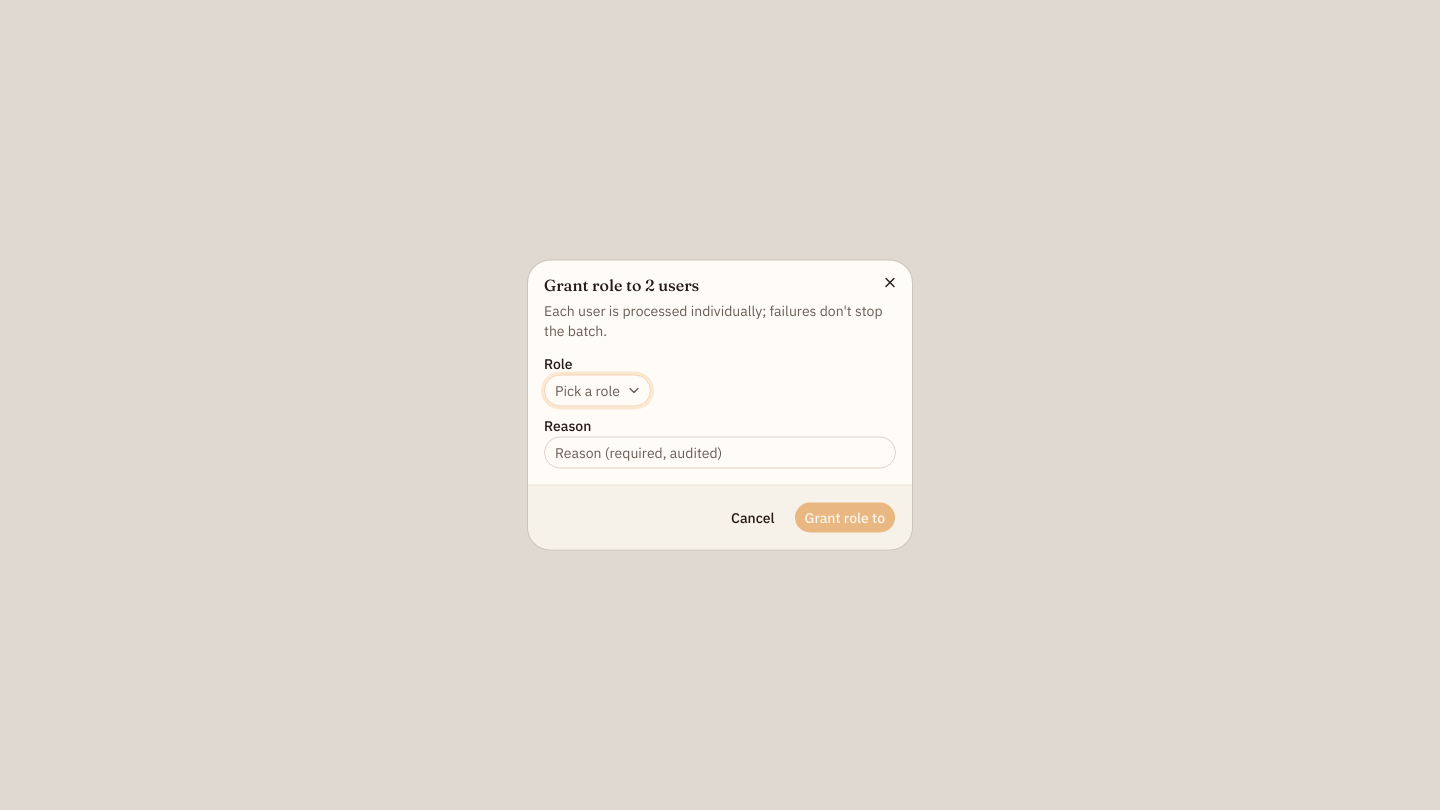
Test: BulkRoleDialog › excludes superadmin from picker
Click the dropdown: (597,390) [544,374,651,406]
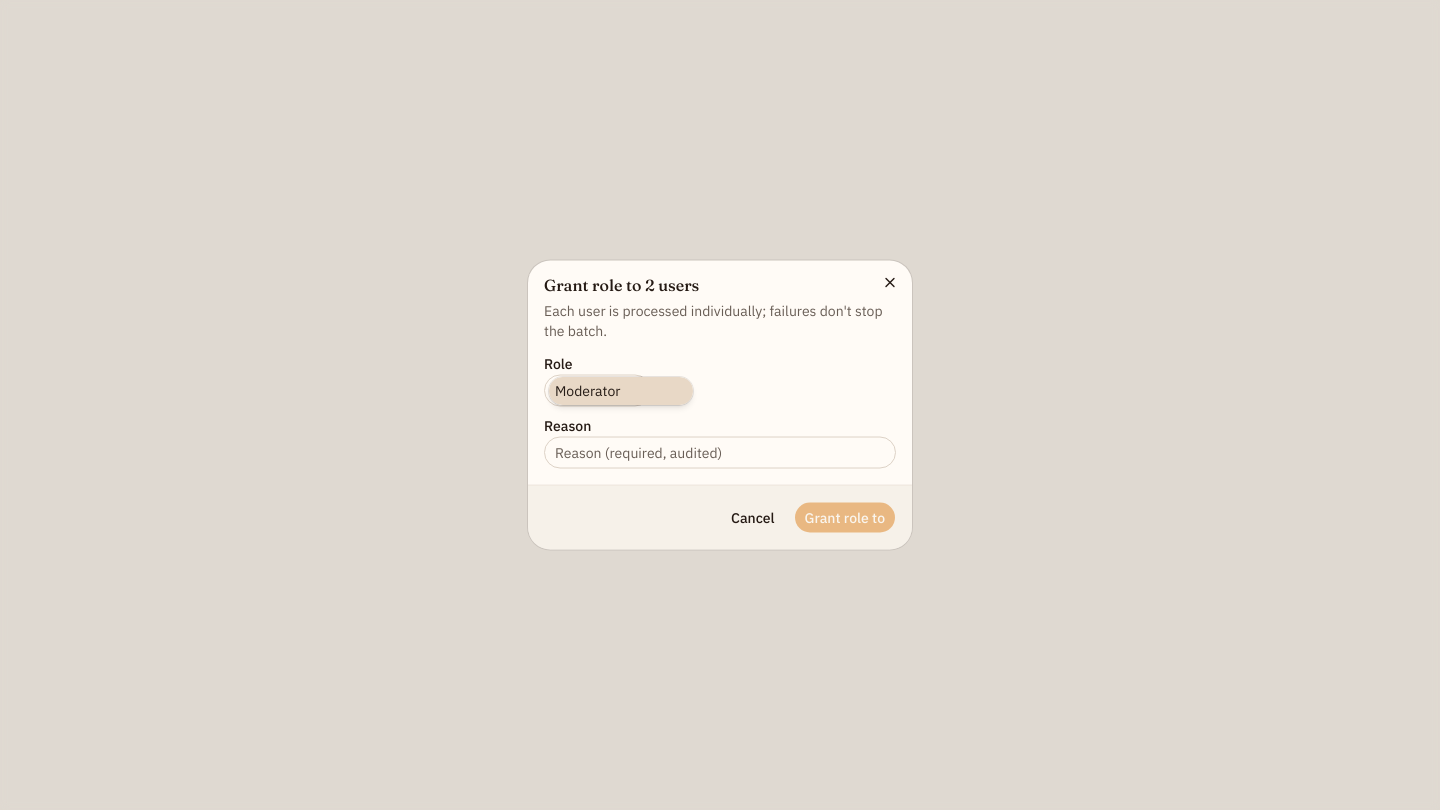
Result: the option "Moderator" is shown at [549,376,693,404]
